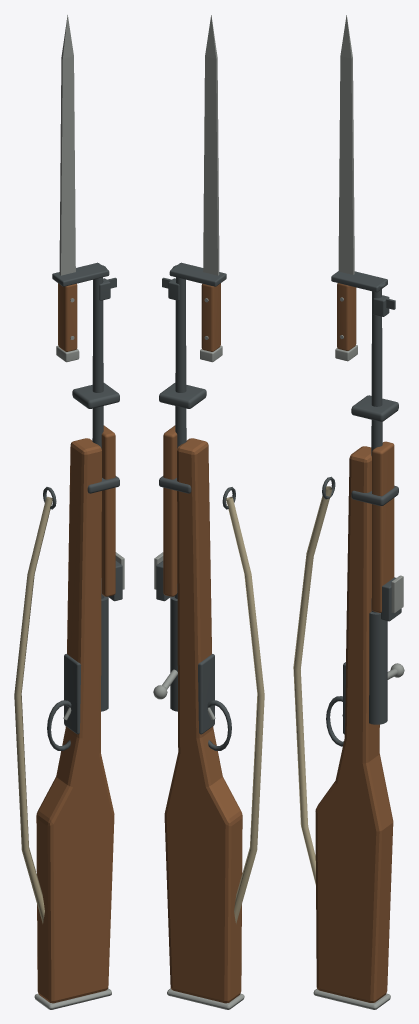
File: springfield_m1903_1918_web.glb
3 renders of one model, left to right at view 1: azimuth 30°, elevation 25°; view 2: azimuth 150°, elevation 25°; view 3: azimuth 330°, elevation 25°, orthographic.
Visible parts, largest first — view 1: Walnut_Wood, Dark_Blued_Steel, Burnished_Steel, Canvas_Linen; view 2: Walnut_Wood, Dark_Blued_Steel, Burnished_Steel, Canvas_Linen; view 3: Walnut_Wood, Dark_Blued_Steel, Burnished_Steel, Canvas_Linen.
Boxes of the visible parts, bbox=[...] form: Walnut_Wood: bbox=[36, 283, 115, 1003]; Dark_Blued_Steel: bbox=[43, 262, 122, 750]; Burnished_Steel: bbox=[34, 15, 124, 1009]; Canvas_Linen: bbox=[14, 496, 52, 923]; Walnut_Wood: bbox=[163, 283, 242, 1003]; Dark_Blued_Steel: bbox=[156, 262, 235, 750]; Burnished_Steel: bbox=[153, 15, 244, 1009]; Canvas_Linen: bbox=[226, 496, 264, 923]; Walnut_Wood: bbox=[315, 283, 394, 1002]; Dark_Blued_Steel: bbox=[322, 271, 401, 746]; Burnished_Steel: bbox=[313, 15, 404, 1009]; Canvas_Linen: bbox=[293, 486, 331, 884].
Bounding box in the file's own units: 0.171 × 1.52 × 0.0985.
